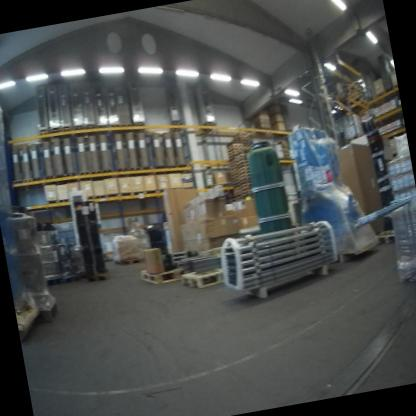pallet: (139, 263, 186, 294), (29, 290, 63, 329), (181, 266, 228, 293), (114, 248, 155, 274), (82, 268, 113, 293), (374, 218, 398, 242), (193, 118, 218, 140), (168, 116, 185, 135), (131, 116, 148, 133), (48, 124, 64, 141), (73, 122, 89, 138), (82, 119, 97, 136), (37, 126, 53, 141), (60, 123, 75, 139), (119, 117, 134, 132), (109, 117, 121, 133), (377, 89, 388, 106), (31, 174, 44, 188), (43, 171, 56, 184), (77, 167, 91, 178), (89, 166, 103, 177), (54, 171, 66, 183), (65, 169, 78, 180), (128, 163, 141, 174), (139, 163, 152, 174), (10, 177, 23, 188), (98, 120, 108, 134), (115, 165, 128, 175), (102, 167, 113, 178), (23, 176, 34, 187)
